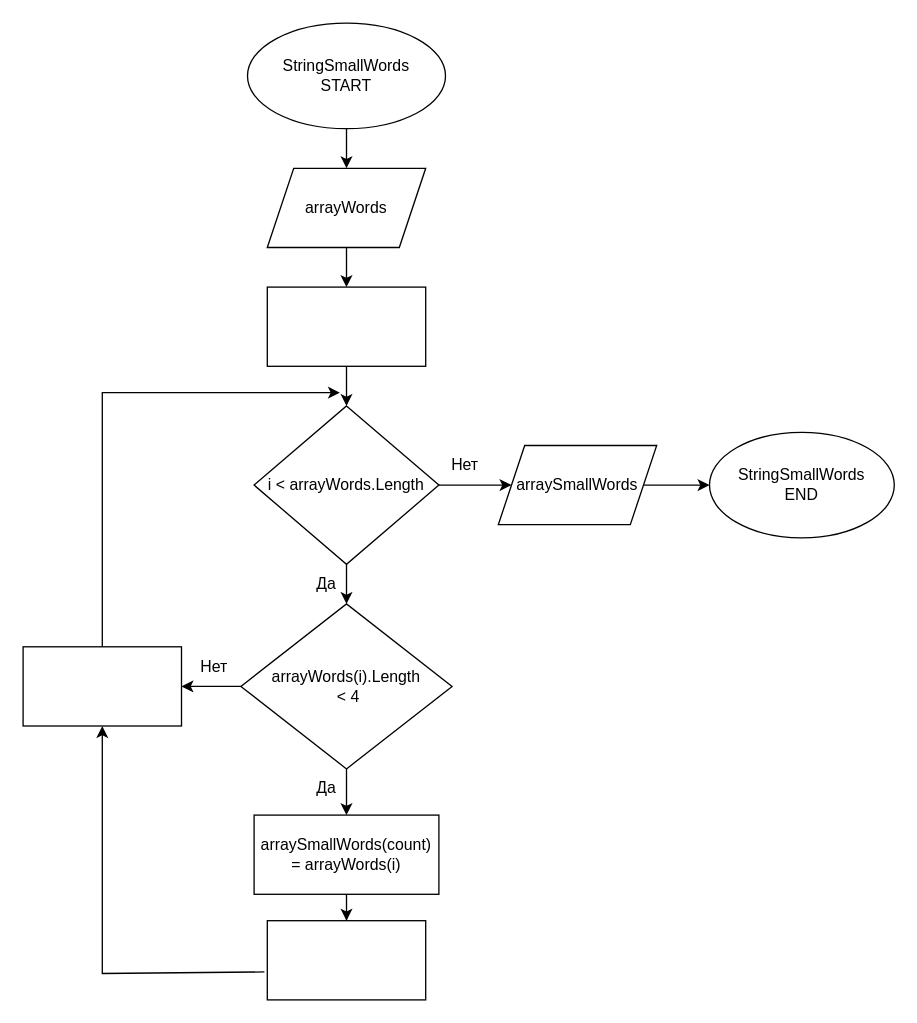
The diagram is 917 pixels wide and 1023 high, and some of its shapes have lost their labels. The centre of each missing label's shape, as x and y in pixels:
"count = 0 i = 0 arraySmallWords" goes at [346,326].
"count = count + 1" goes at [346,959].
"i = i + 1" goes at [102,685].
